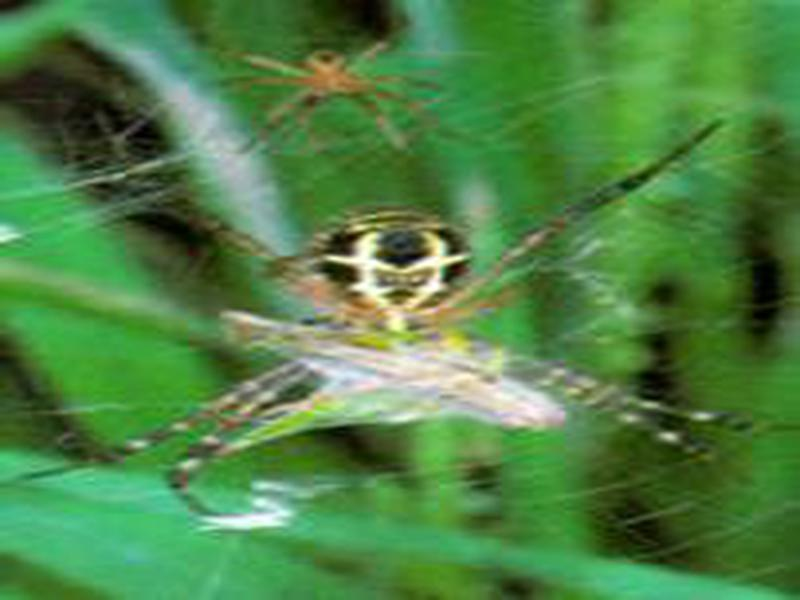White_backed_plant_hopper: (226, 199, 583, 442), (237, 31, 426, 150)
